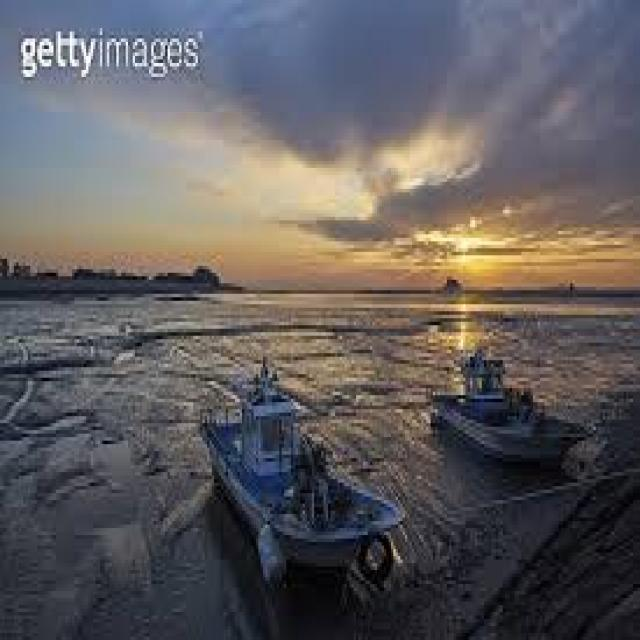Ship: (201, 365, 420, 607), (420, 340, 602, 480)
